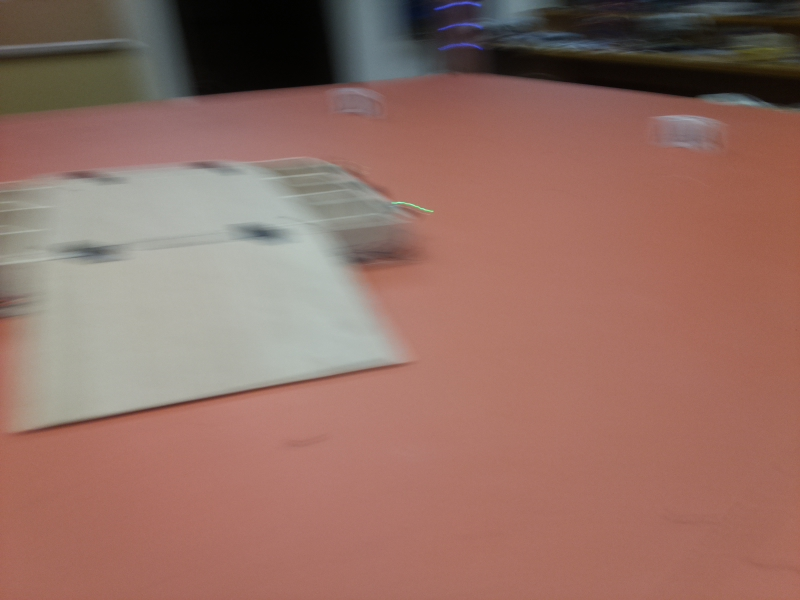blockA: (650, 105, 725, 152)
blockD: (329, 93, 390, 116)
side: (253, 162, 416, 255), (1, 171, 27, 311)
slope: (10, 236, 415, 437), (55, 154, 244, 183)
